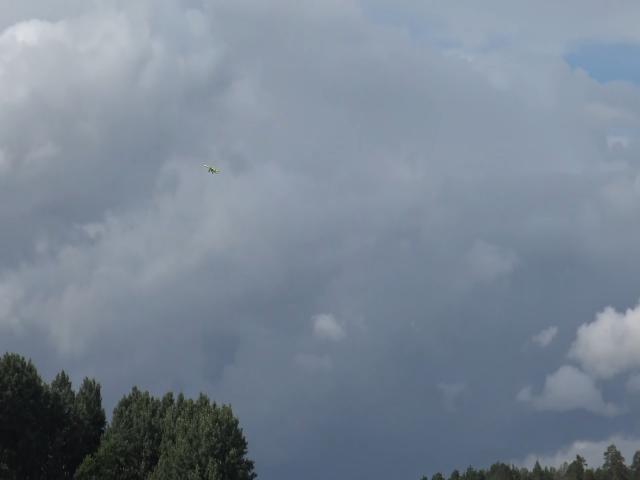plane: (202, 163, 216, 173)
